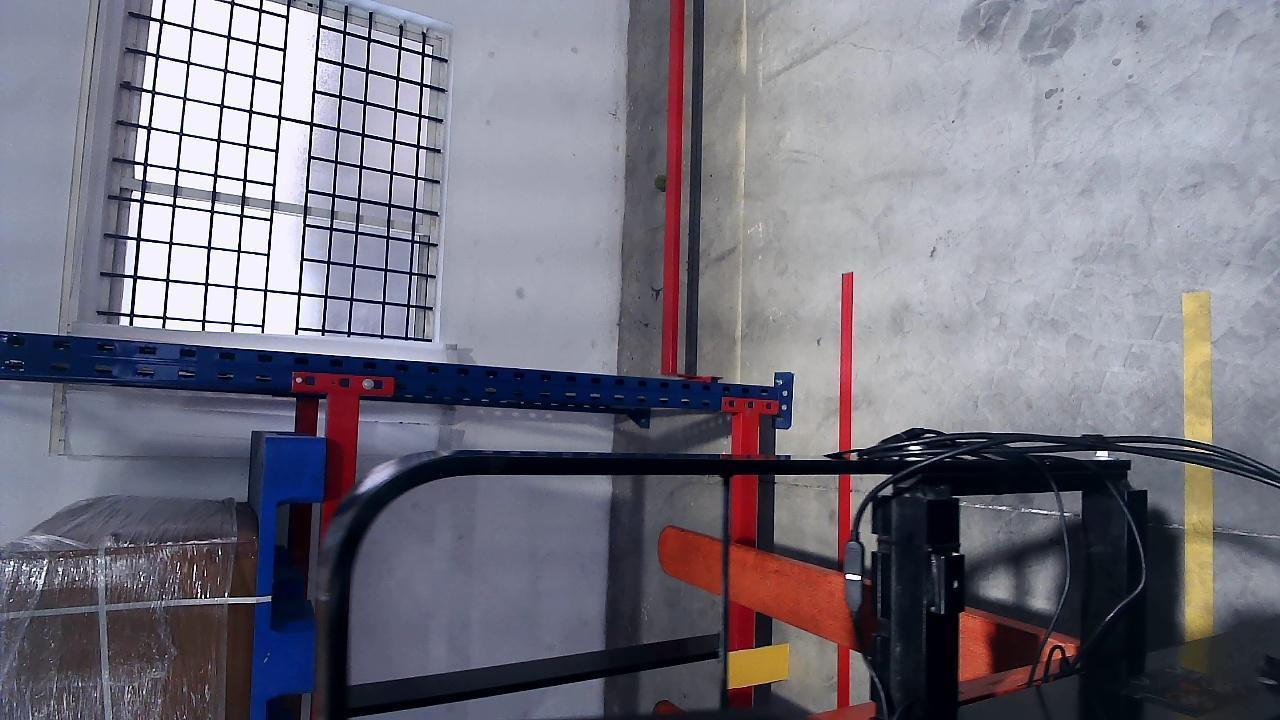red_line: (838, 272, 858, 709)
yellow_line: (1182, 291, 1215, 634)
